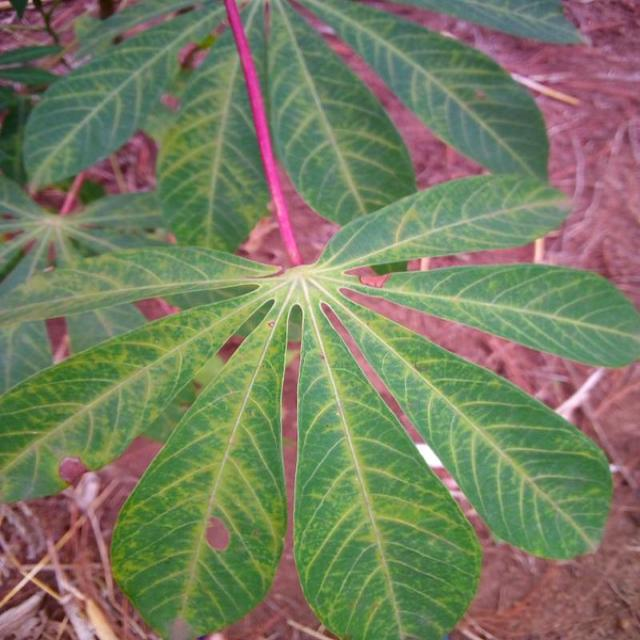cassava leaf: (0, 0, 638, 638), (292, 294, 482, 638), (109, 296, 289, 638)
